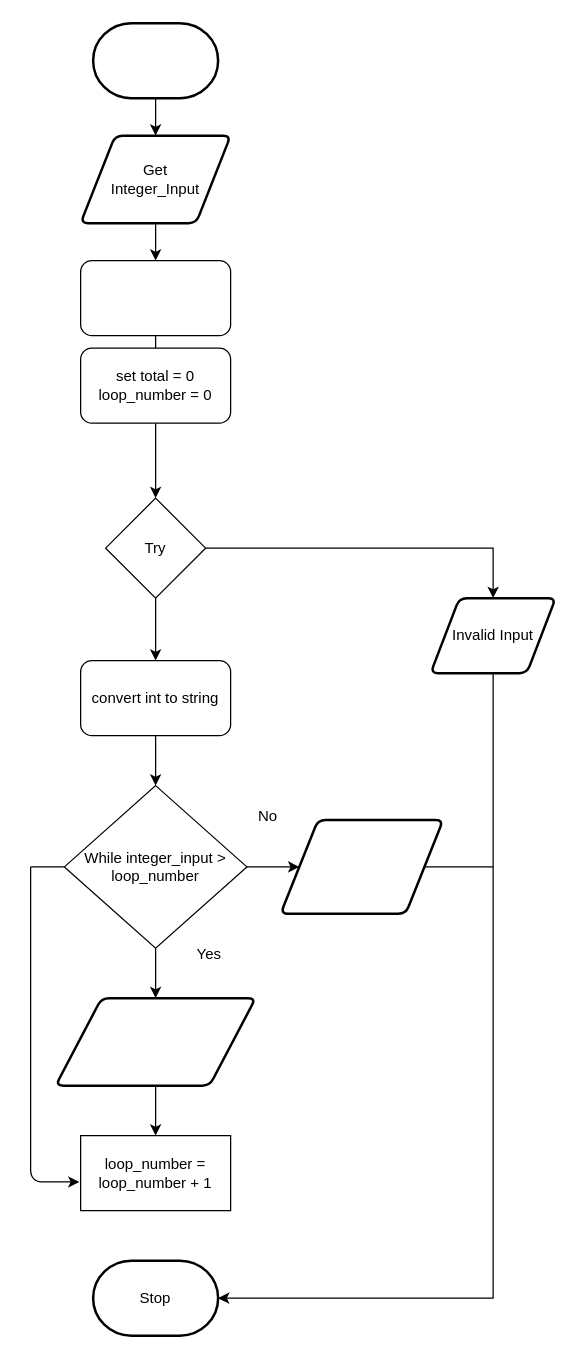
Some shapes in this 579 by 1358 pixel diagram are drawn without their labels. The centre of each missing label's shape, as x and y in pixels:
loop_number = Integer_number: the point at 361,866
set total = 0: the point at 155,297
Start: the point at 155,60
total = total + loop_number: the point at 155,1041
